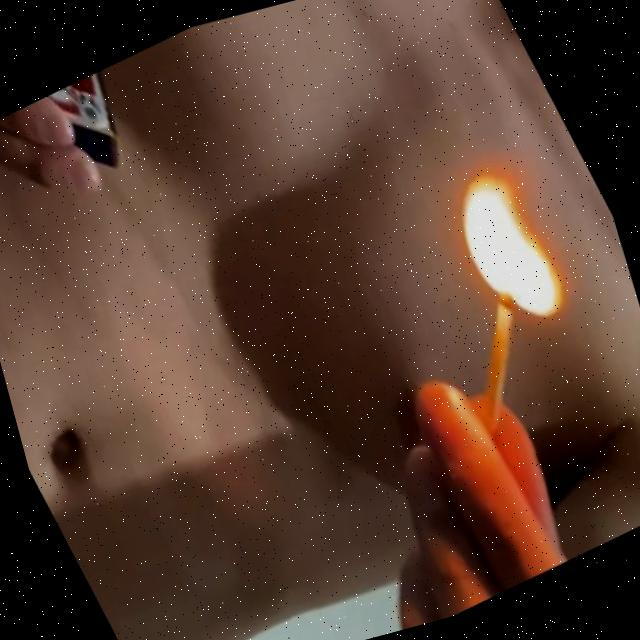fire: (429, 137, 602, 350)
